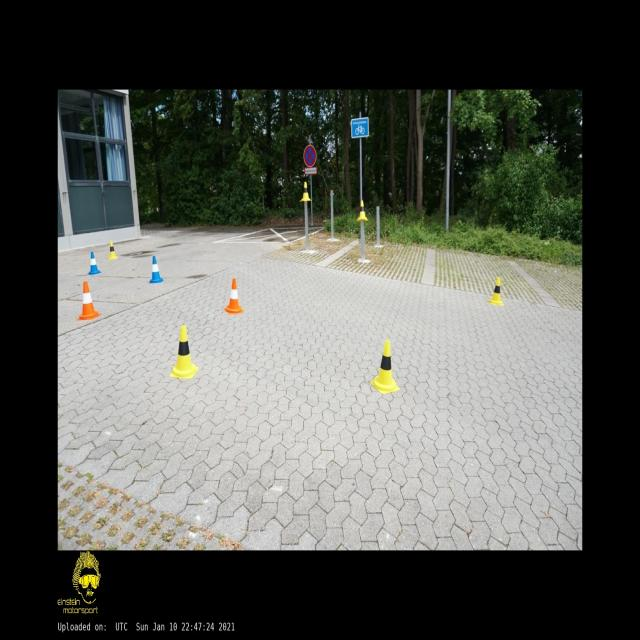blue_cone: (150, 256, 163, 282), (88, 252, 100, 275)
orange_cone: (78, 282, 100, 320), (225, 278, 242, 314)
yellow_cone: (371, 340, 399, 394), (170, 325, 198, 378), (488, 277, 503, 305), (357, 200, 368, 221), (300, 182, 311, 201), (109, 241, 118, 259)
